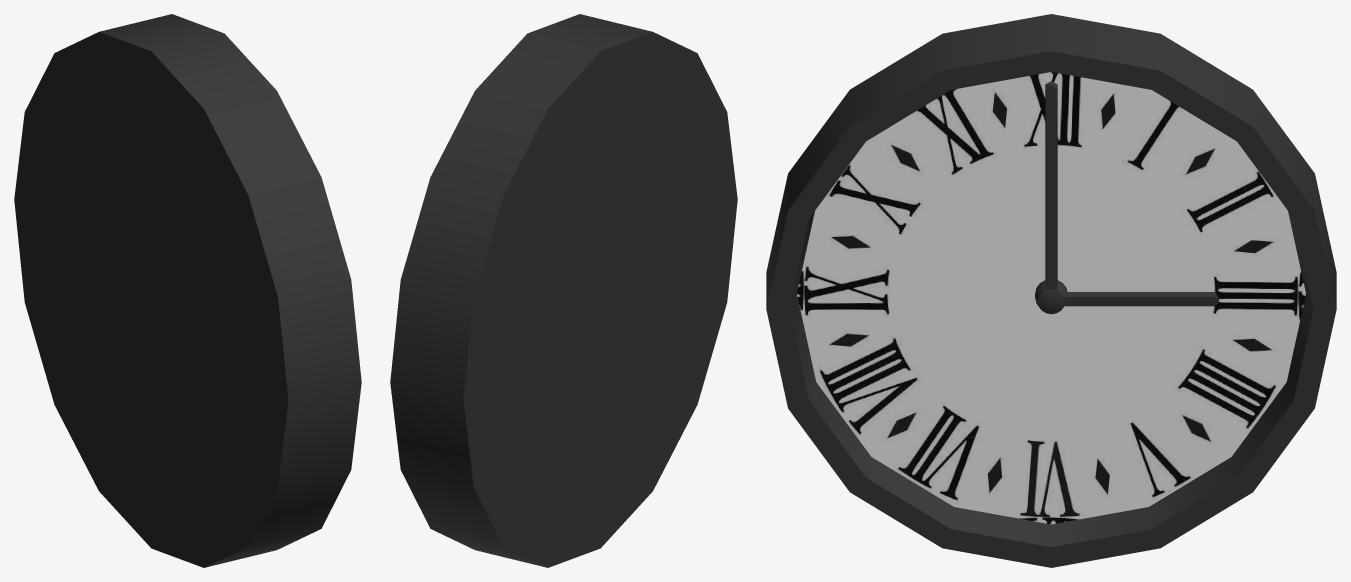
The model's file is clock.fbx.
3 views of the same model, side by side, from view 1: azimuth 30°, elevation 25°; view 2: azimuth 150°, elevation 25°; view 3: azimuth 270°, elevation 25° (orthographic). The views are drawn at different scales.
Parts seen in each view (by area): view 1: Clock; view 2: Clock; view 3: Clock.
Part boxes in pixels (x1,y1,x2,y2): Clock: (14,14,361,567); Clock: (390,14,737,567); Clock: (766,14,1336,567).
Bounding box in the file's own units: 0.1175 × 0.7621 × 0.7621.
Materials: 2 (1 with a texture image).
